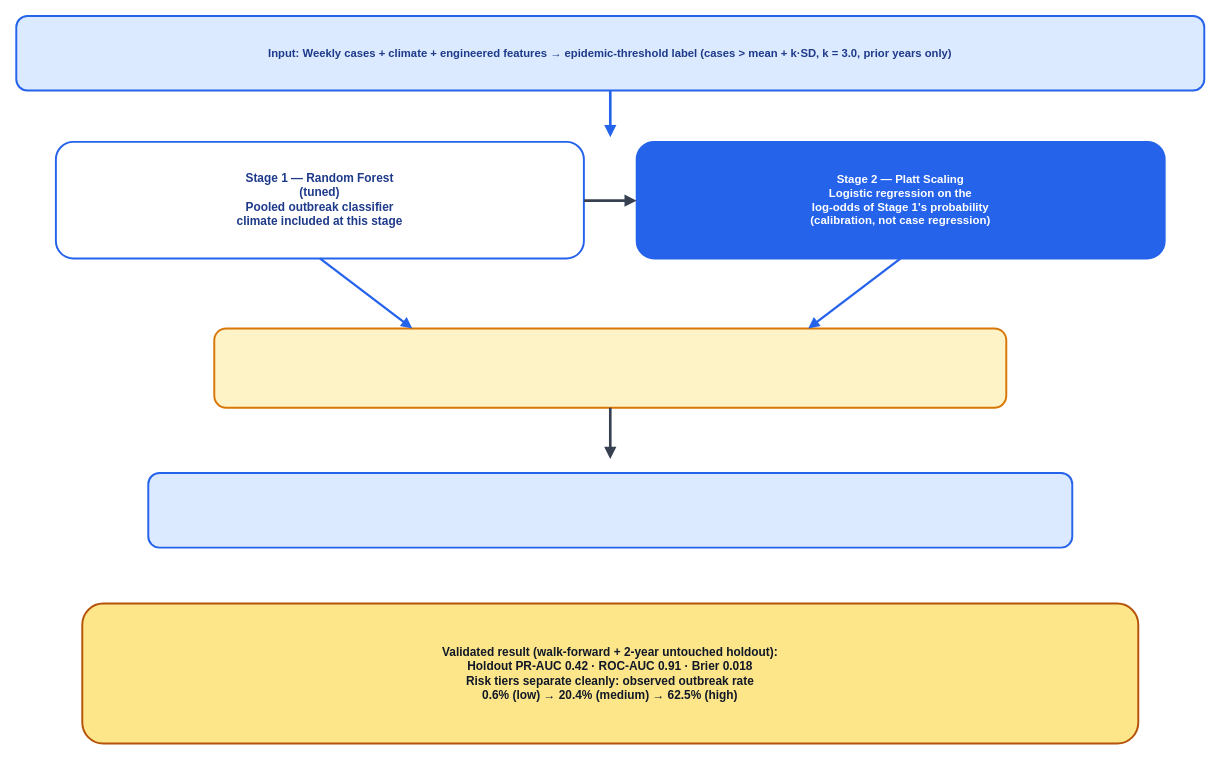
Some shapes in this 1221 by 759 pixel diagram are drawn without their labels. The shapes that lost their labels are listed below. From the top down, each one's box as (x1, y1, x2, y2) in pixels, then its label:
(213, 327, 1007, 408): Calibrated Probability p̃ = g(logit(p̂))
(147, 472, 1073, 548): Output: alert_flag + risk_tier (low / medium / high)
